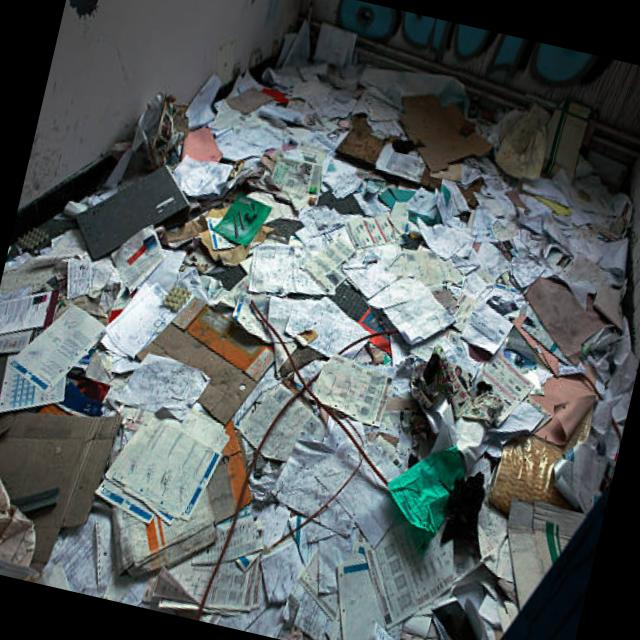electronic: (64, 146, 198, 278), (93, 406, 227, 532), (0, 291, 108, 432), (386, 85, 500, 184), (511, 267, 614, 367), (377, 431, 472, 539), (97, 268, 195, 369), (360, 266, 463, 354), (107, 344, 213, 424), (307, 350, 393, 427), (210, 188, 273, 250), (312, 20, 359, 70)
